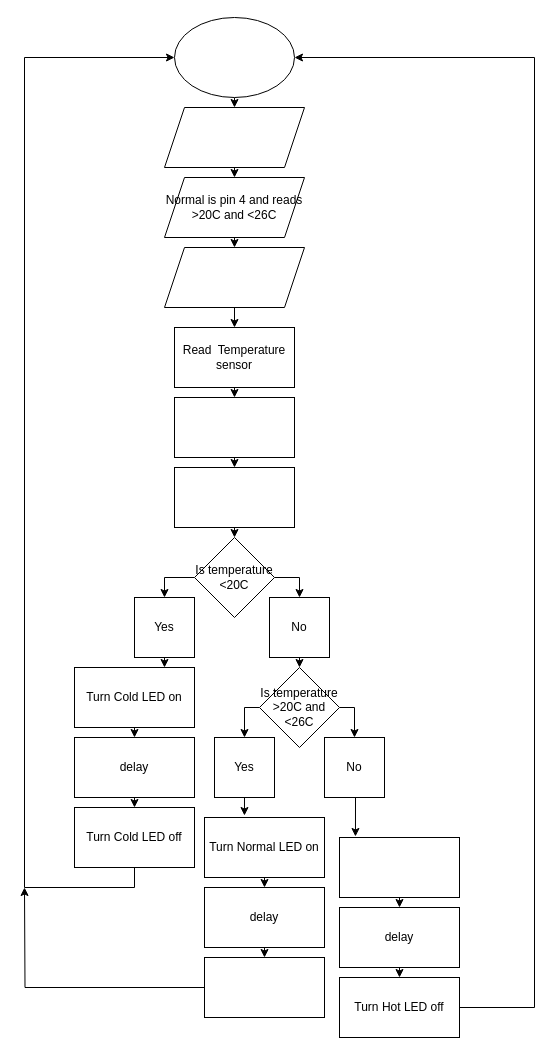
Image size: 560x1055. Some labels were removed from this diagram. The centre of each missing label's shape, as x and y in pixels:
Cold is pin 2 and reads <20C: (234,277)
Convert reading to voltage: (234,427)
convert voltage to celsius: (234,497)
Hot is pin 6 and reads at >26C: (234,137)
Start: (234,57)
Turn Hot LED on: (399,867)
Turn Normal LED off: (264,987)
